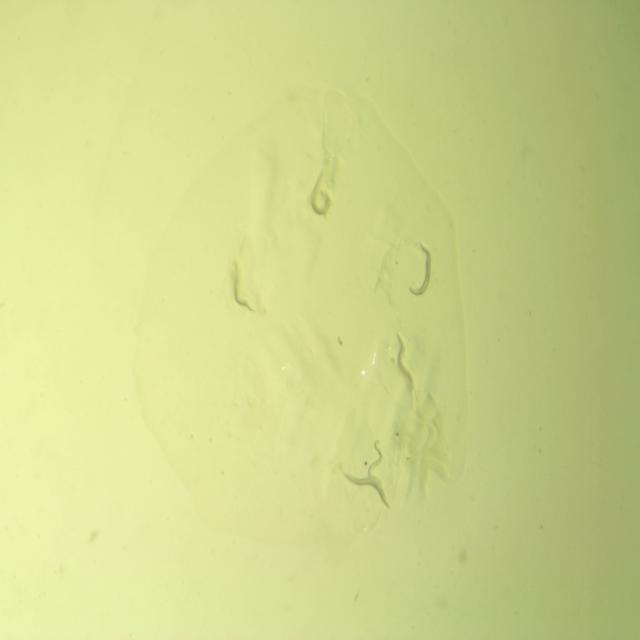worm: (342, 469, 394, 515), (406, 240, 434, 301), (391, 328, 415, 389), (229, 262, 256, 316), (308, 170, 333, 222), (366, 436, 387, 488)
